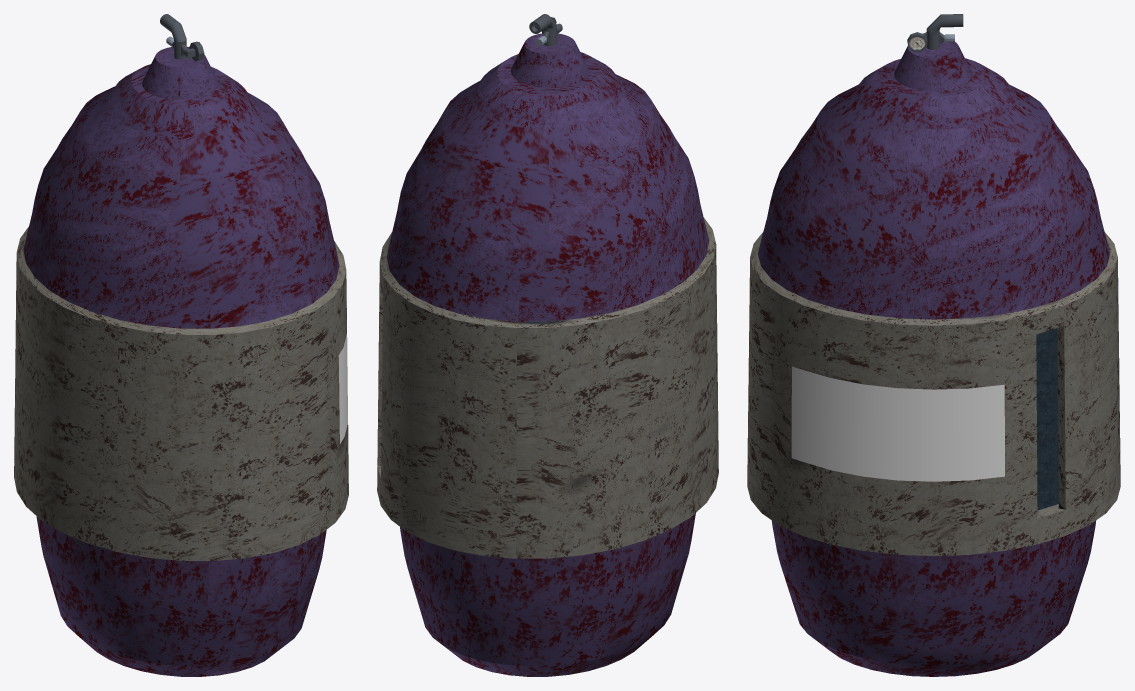
Rendered from SM_Barrel.fbx.
3 views of the same model, side by side, from view 1: azimuth 30°, elevation 25°; view 2: azimuth 150°, elevation 25°; view 3: azimuth 270°, elevation 25° (orthographic). The views are drawn at different scales.
Visible parts, largest first — view 1: Barrel; view 2: Barrel; view 3: Barrel.
Part boxes in pixels (x1,y1,x2,y2): Barrel: [14, 14, 348, 676]; Barrel: [377, 14, 718, 676]; Barrel: [747, 14, 1120, 676].
Bounding box in the file's own units: 61.87 × 128 × 69.99.
3 materials, 2 textured.
